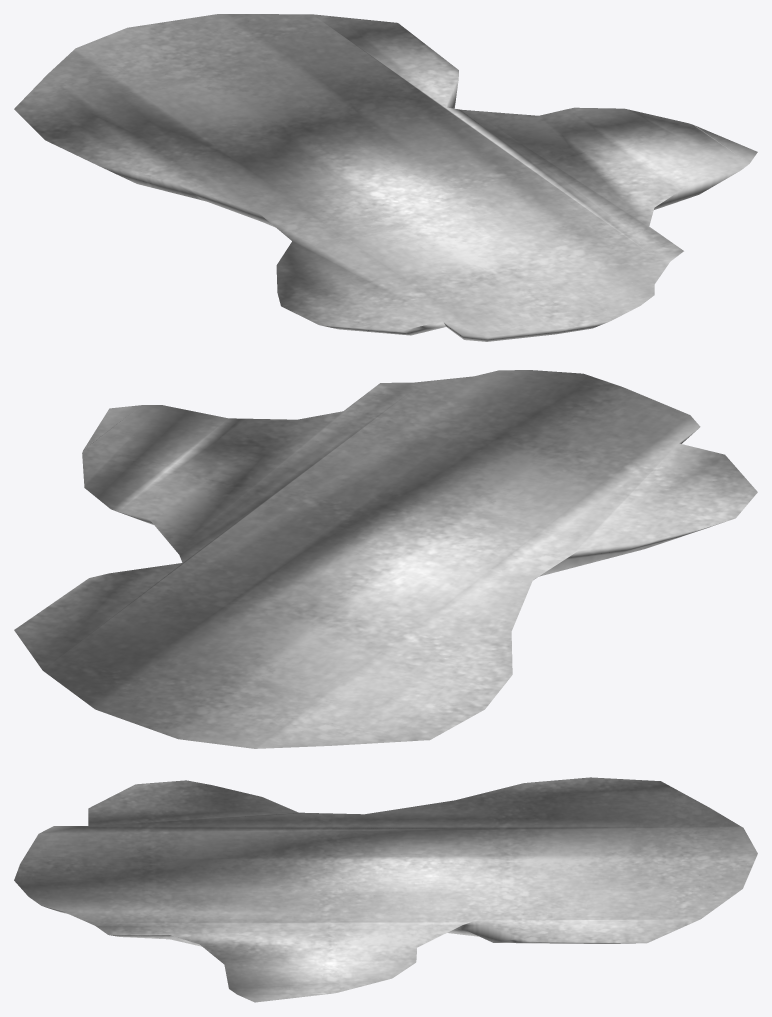
3 views of the same model, one above another, from view 1: azimuth 30°, elevation 25°; view 2: azimuth 150°, elevation 25°; view 3: azimuth 270°, elevation 25° (orthographic). The views are drawn at different scales.
Visible parts, largest first — view 1: SketchUp; view 2: SketchUp; view 3: SketchUp.
Part boxes in pixels (left/top/right/bottom): SketchUp: left=14, top=14, right=757, bottom=341; SketchUp: left=14, top=370, right=757, bottom=748; SketchUp: left=14, top=777, right=757, bottom=1002.
Size of the model in its own units: 40.76 by 56.93 by 4.38.
Materials: 2 (1 with a texture image).
